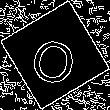O_N: (28, 25, 82, 85)
